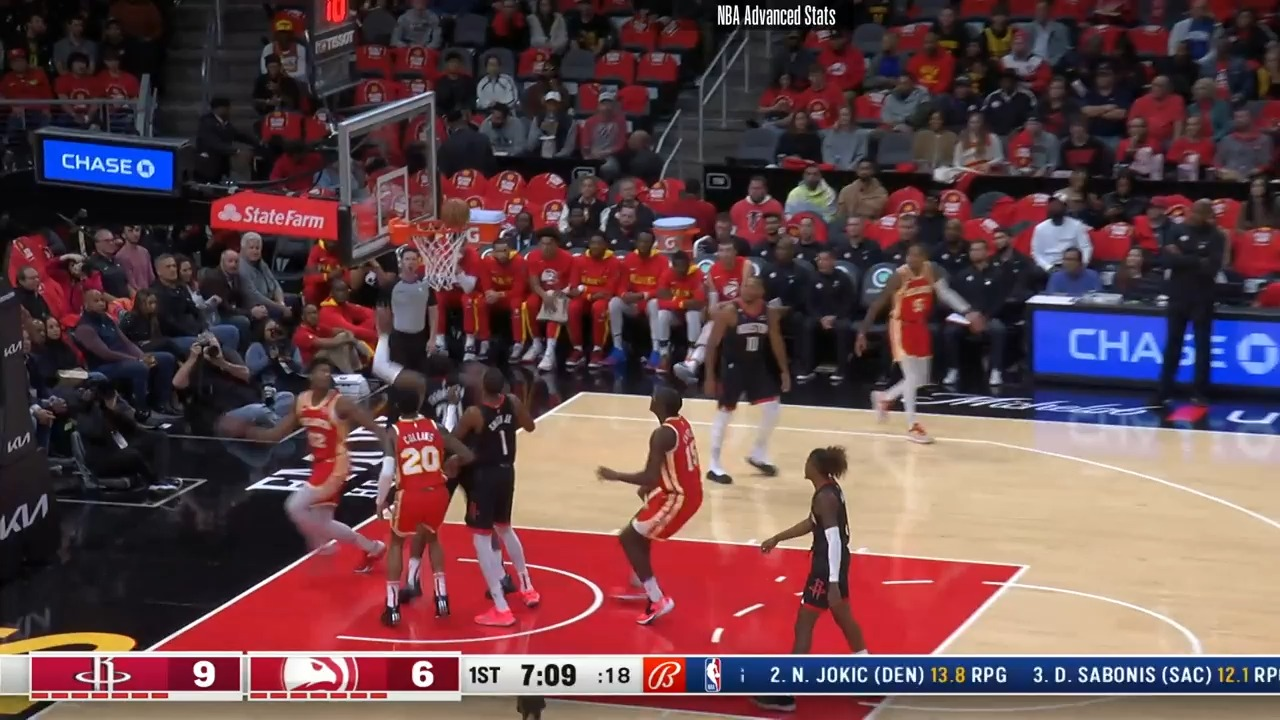net: (386, 212, 470, 287)
player: (244, 361, 391, 579), (604, 381, 715, 630), (449, 363, 545, 629), (753, 443, 868, 653), (860, 238, 964, 444), (379, 387, 464, 632), (697, 266, 788, 484), (370, 307, 466, 436)
referee: (376, 249, 439, 373)
